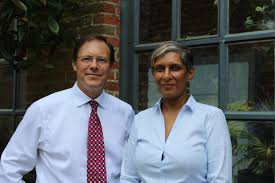F_shirt: (6, 82, 136, 183), (128, 97, 235, 183)
F_tie: (78, 96, 108, 183)
